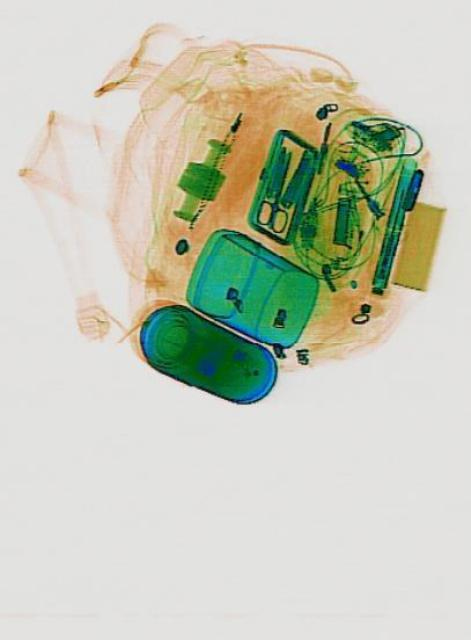Scissors: (250, 144, 303, 236)
